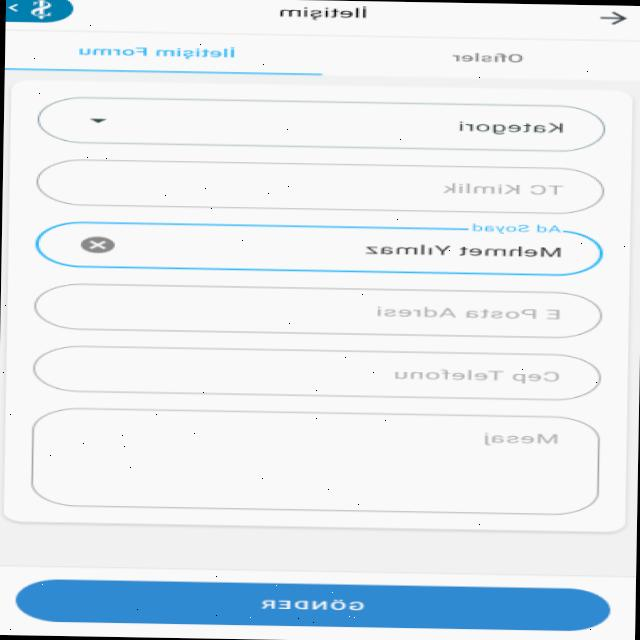QLabel: (71, 42, 249, 62), (273, 1, 375, 22), (255, 596, 374, 614), (443, 50, 545, 66)
VAppBar: (5, 0, 640, 39)
VBtn: (14, 578, 610, 632)
VCard: (0, 78, 635, 534)
VCombobox: (36, 95, 605, 153)
VFooter: (0, 563, 635, 640)
VIcon: (594, 9, 634, 26)
VImg: (5, 0, 74, 22)
VTab: (4, 34, 337, 70), (380, 41, 594, 76)
VTabs: (4, 30, 640, 83)
VTextField: (34, 215, 604, 277), (36, 157, 604, 216), (32, 282, 604, 340), (31, 344, 602, 402)
VTextarea: (27, 404, 603, 516)
